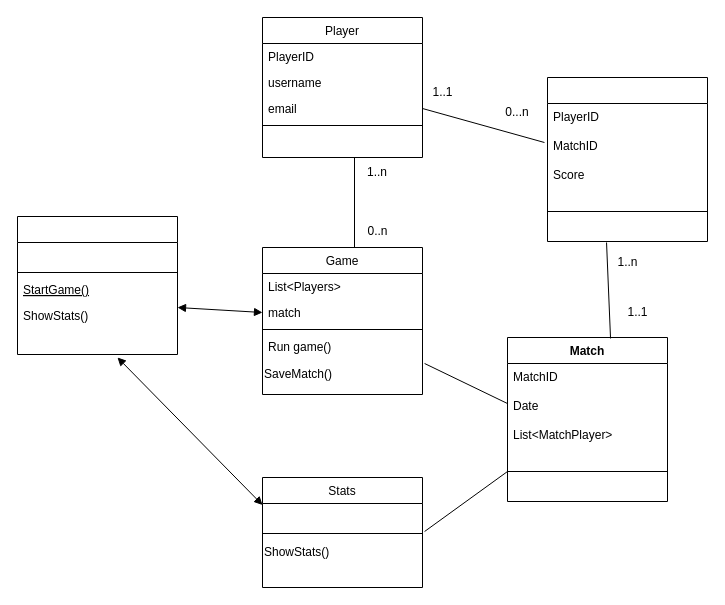
Image size: 725x605. Some labels were removed from this diagram. The box of each missing label's shape, as (x1, y1, x2, y2) in pixels:
Main Menu: (16, 216, 178, 354)
MatchPlayer: (546, 76, 708, 242)
